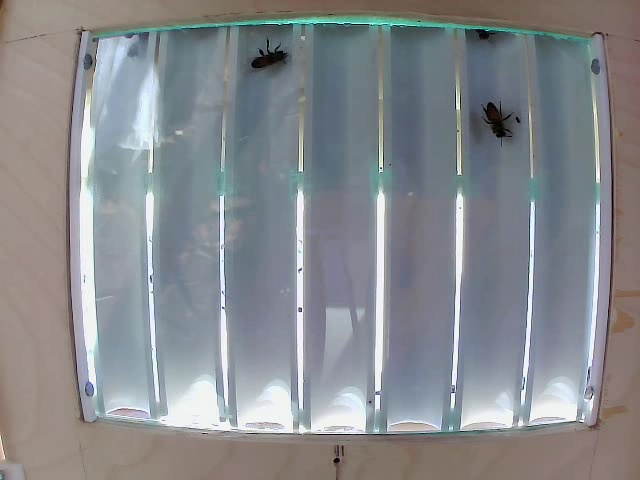bee: (252, 44, 301, 73), (486, 93, 511, 147)
